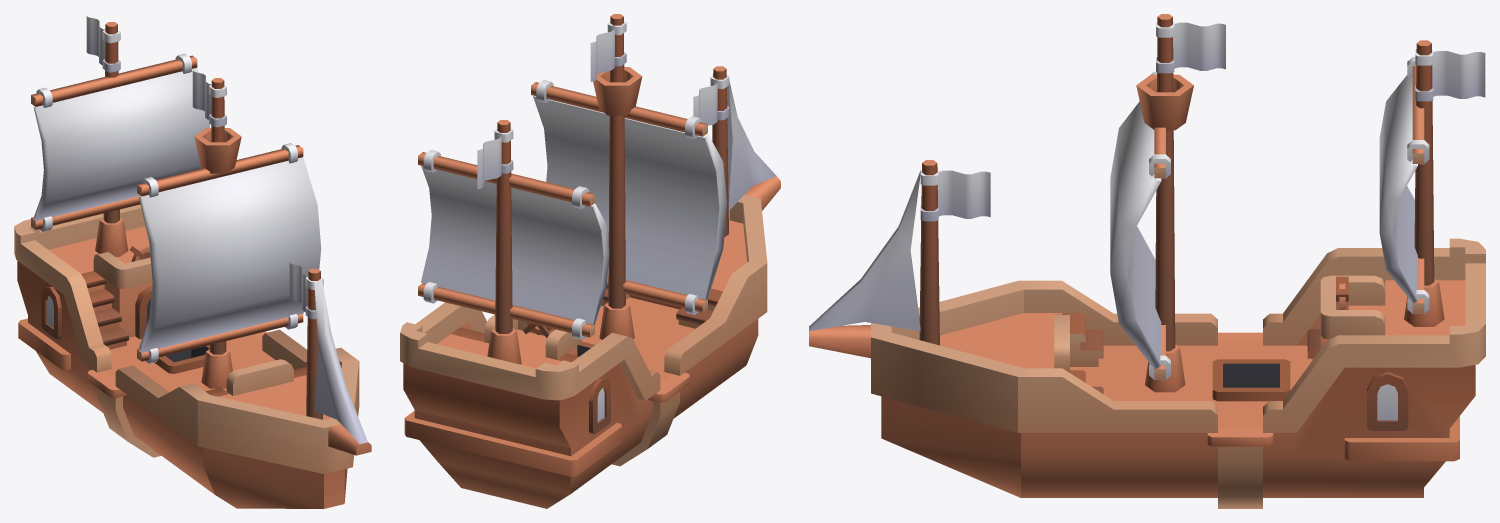
The model's file is fartyg.glb.
3 renders of one model, left to right at view 1: azimuth 30°, elevation 25°; view 2: azimuth 150°, elevation 25°; view 3: azimuth 270°, elevation 25°, orthographic. The views are drawn at different scales.
Visible parts, largest first — view 1: ship-large, sail-a, sail-b, flag-b, flag-c, flag-a; view 2: ship-large, sail-a, sail-b, flag-b, flag-c, flag-a; view 3: ship-large, sail-a, sail-b, flag-a, flag-c, flag-b.
Boxes of the visible parts, bbox=[...] form: ship-large: bbox=[14, 22, 371, 508]; sail-a: bbox=[137, 143, 321, 363]; sail-b: bbox=[31, 53, 210, 231]; flag-b: bbox=[192, 70, 226, 127]; flag-c: bbox=[86, 16, 120, 72]; flag-a: bbox=[289, 262, 323, 319]; ship-large: bbox=[400, 14, 780, 508]; sail-a: bbox=[531, 80, 726, 314]; sail-b: bbox=[418, 150, 609, 339]; flag-b: bbox=[590, 21, 626, 81]; flag-c: bbox=[477, 128, 513, 189]; flag-a: bbox=[693, 75, 729, 125]; ship-large: bbox=[809, 14, 1485, 508]; sail-a: bbox=[1110, 71, 1170, 379]; sail-b: bbox=[1379, 57, 1429, 313]; flag-a: bbox=[920, 169, 990, 221]; flag-c: bbox=[1415, 49, 1485, 101]; flag-b: bbox=[1156, 21, 1225, 73].
Size of the model in its own units: 4.8 by 9.96 by 13.1.
1 material, 1 textured.
